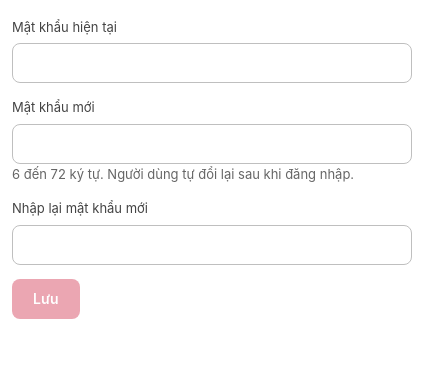
Test: PasswordSection › hiện lỗi khi server từ chối, và không xoá ô nhập
Step 1. Type "sai-roi" into the password field labelled "Mật khẩu hiện tại" → point(212, 63), box [12,43,412,83]
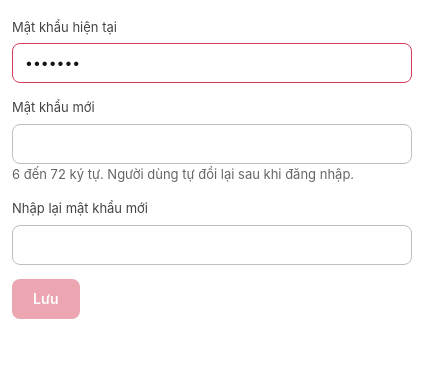
Step 2. Type "moi-manh-hon" into the password field labelled "Mật khẩu mới" → point(212, 144), box [12,124,412,164]
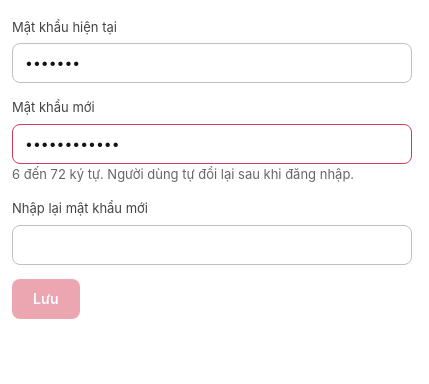
Step 3. Type "moi-manh-hon" into the password field labelled "Nhập lại mật khẩu mới" → point(212, 244), box [12,224,412,264]
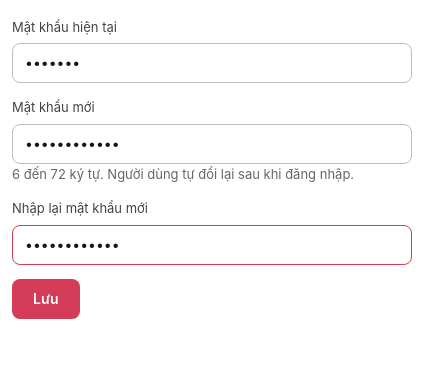
Step 4. Click the button "Lưu" → point(46, 298), box [12,278,80,318]
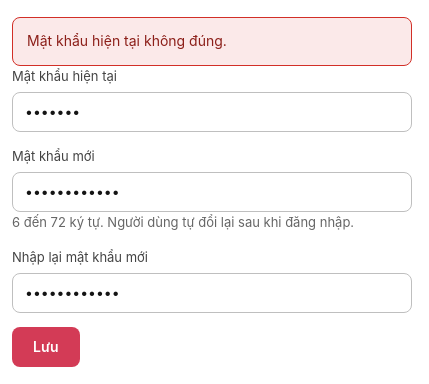
Result: the text "Mật khẩu hiện tại không đúng." is shown at [12,17,412,66]
